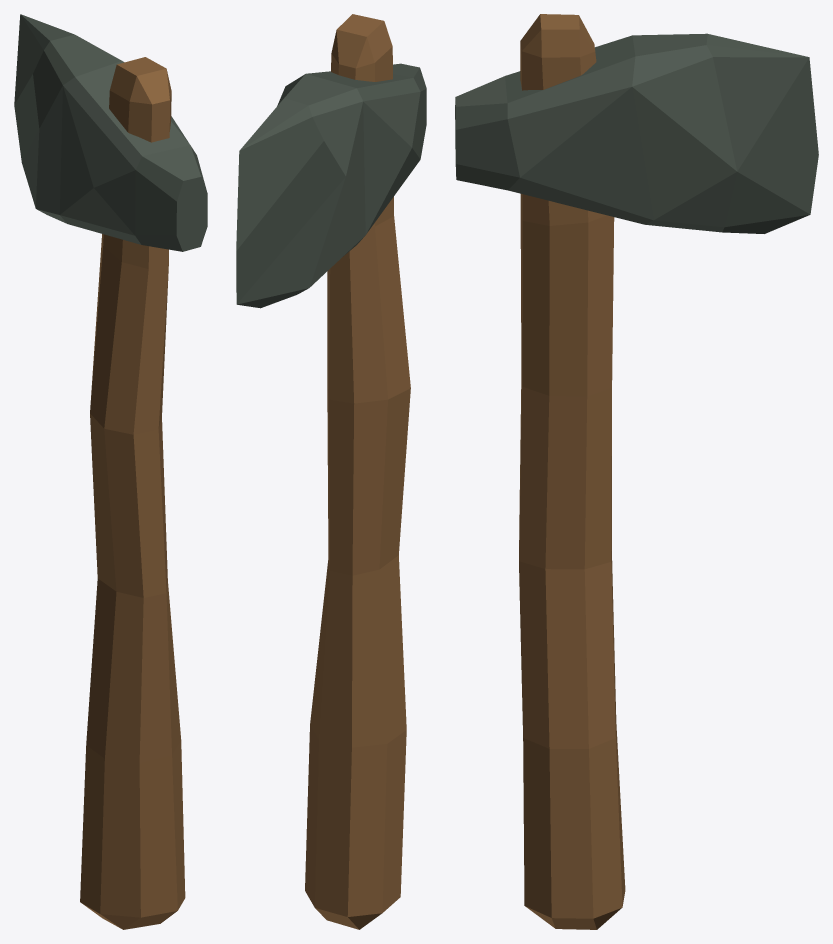
File: StoneAxe.fbx
3 renders of one model, left to right at view 1: azimuth 30°, elevation 25°; view 2: azimuth 150°, elevation 25°; view 3: azimuth 270°, elevation 25°, orthographic. The views are drawn at different scales.
Visible parts, largest first — view 1: StoneAxe; view 2: StoneAxe; view 3: StoneAxe.
Part boxes in pixels (box(x1,y1,x2,y2)): StoneAxe: box(14, 14, 207, 929); StoneAxe: box(236, 14, 426, 929); StoneAxe: box(455, 14, 818, 929).
Size of the model in its own units: 11.49 by 104 by 37.94.
